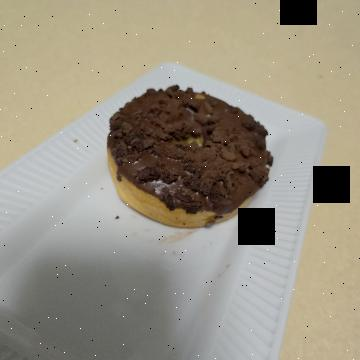doughnut: (70, 78, 250, 270)
